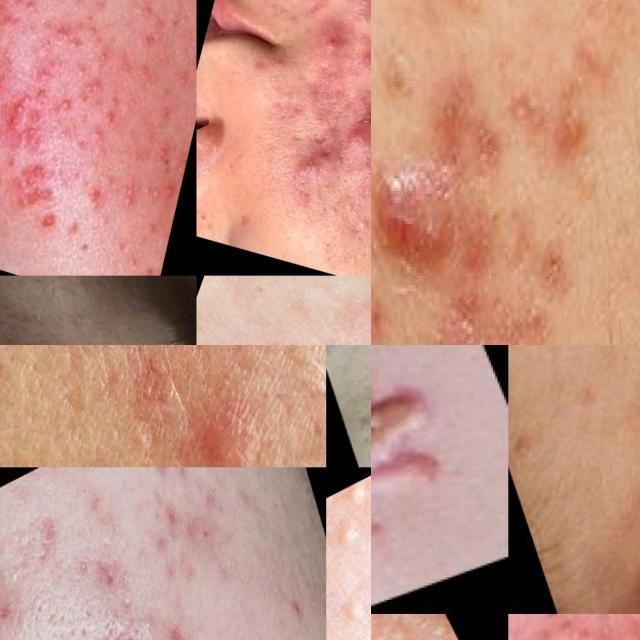acne_scars: (270, 560, 322, 632), (18, 509, 68, 571), (82, 540, 126, 603), (151, 494, 185, 544), (0, 565, 22, 632), (18, 157, 60, 192), (143, 467, 192, 491), (160, 615, 198, 640)
comedone: (122, 588, 172, 640), (150, 116, 180, 170), (47, 22, 93, 56), (112, 176, 145, 213), (82, 66, 109, 102), (143, 173, 163, 203), (170, 6, 194, 27), (320, 172, 338, 196), (316, 195, 332, 221)
crystanlline: (371, 145, 456, 270)
keloid: (371, 353, 474, 561)
milium: (326, 476, 371, 566), (326, 575, 371, 640)
papule: (172, 350, 272, 467), (99, 100, 125, 131)
pustule: (9, 85, 34, 119), (162, 171, 183, 207), (40, 208, 65, 235), (53, 88, 77, 115)
sebo-crystan-conglo: (294, 135, 334, 183), (315, 16, 351, 61), (352, 102, 371, 154)
